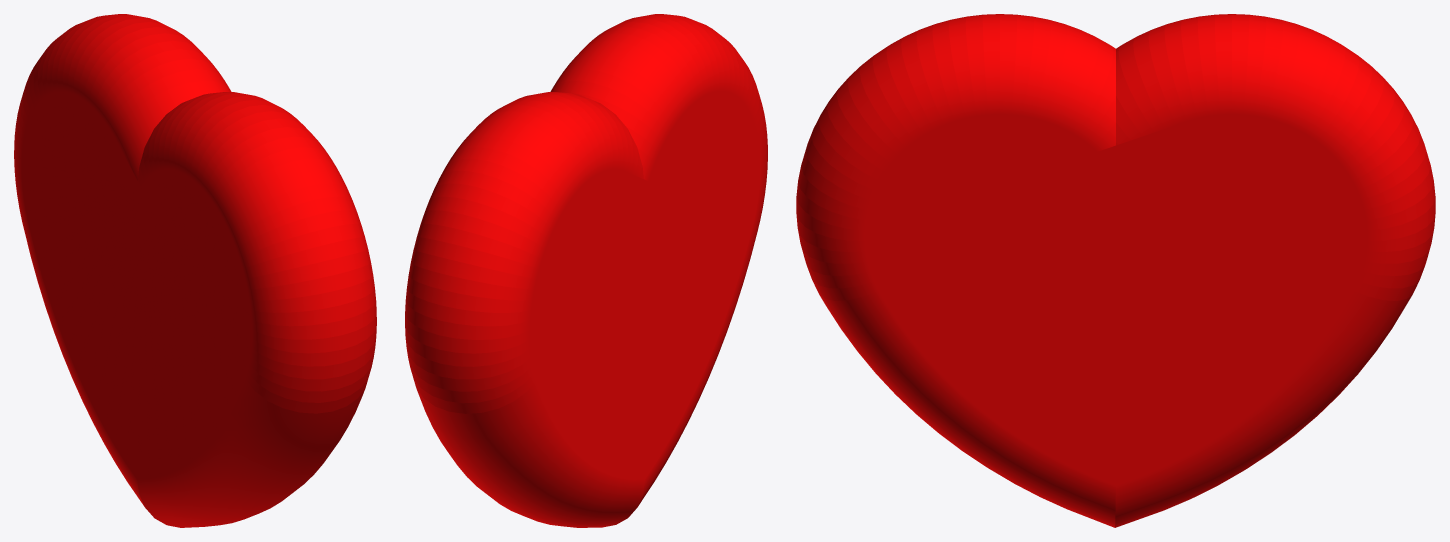
Rendered from Heart_other.obj.
The picture shows the model from 3 angles, left to right: view 1: azimuth 30°, elevation 25°; view 2: azimuth 150°, elevation 25°; view 3: azimuth 270°, elevation 25°; orthographic projection. The views are drawn at different scales.
Visible parts, largest first — view 1: Mesh1 Model; view 2: Mesh1 Model; view 3: Mesh1 Model.
Boxes of the visible parts, x1=… form: Mesh1 Model: x1=14, y1=14, x2=376, y2=527; Mesh1 Model: x1=405, y1=14, x2=767, y2=527; Mesh1 Model: x1=796, y1=14, x2=1435, y2=527.
Bounding box in the file's own units: 1910 × 7160 × 8294.
